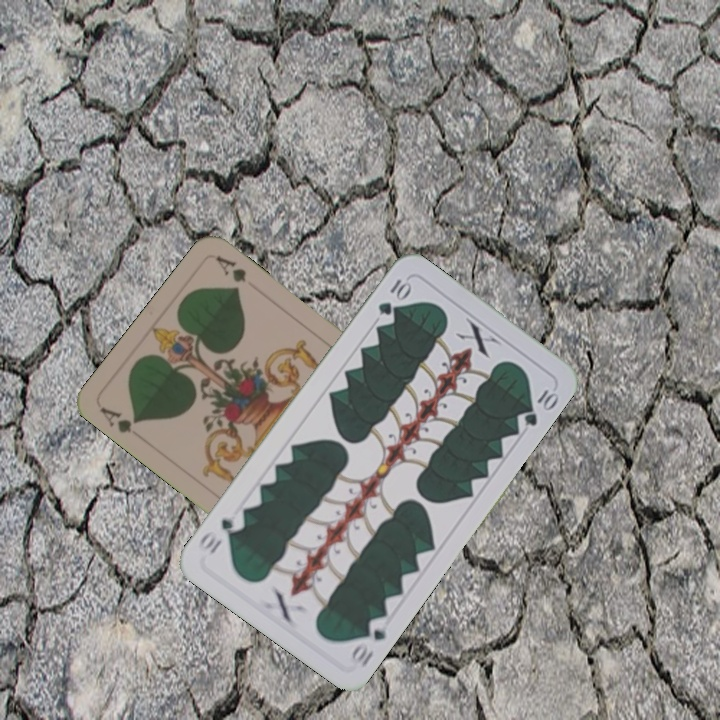G10: (346, 613, 392, 670), (373, 275, 414, 318)
GA: (96, 403, 142, 436)
